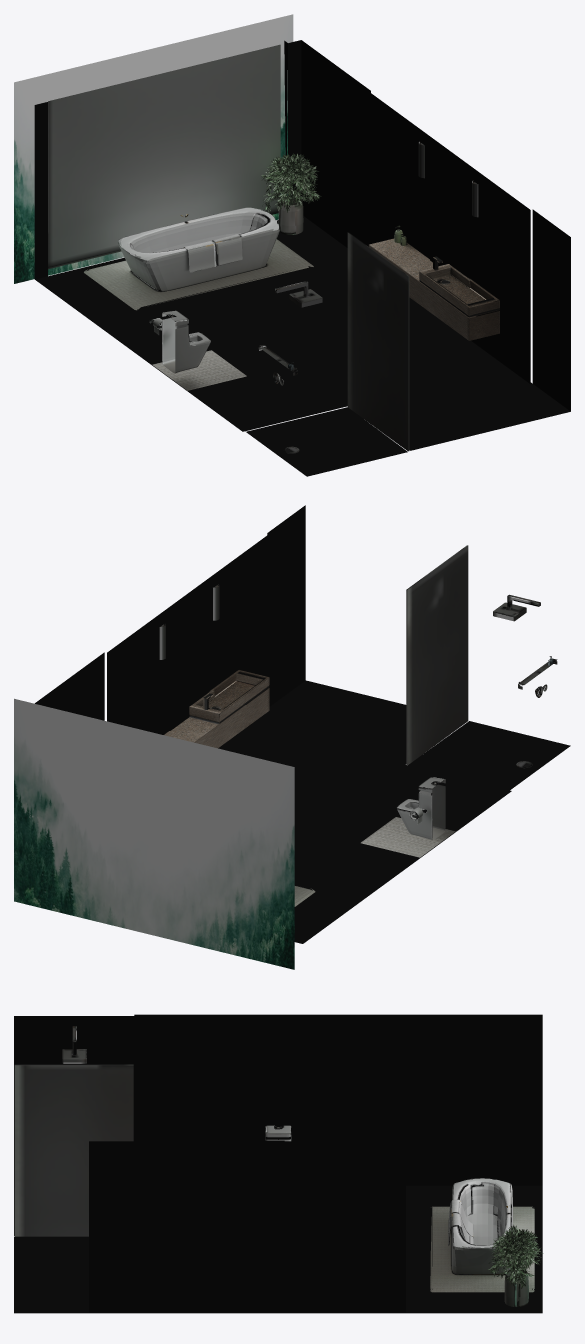
The model's file is int_bathroom_modern.fbx.
The picture shows the model from 3 angles, top to bottom: view 1: azimuth 30°, elevation 25°; view 2: azimuth 150°, elevation 25°; view 3: azimuth 270°, elevation 25°; orthographic projection. The views are drawn at different scales.
Visible parts, largest first — view 1: int_bathroom_modern; view 2: int_bathroom_modern; view 3: int_bathroom_modern.
Boxes of the visible parts, x1,y1,x2,y2 form: int_bathroom_modern: (14, 14, 570, 476); int_bathroom_modern: (14, 505, 570, 969); int_bathroom_modern: (14, 1014, 543, 1313).
Bounding box in the file's own units: 4.35 × 3 × 7.66.
Materials: 2 (2 with a texture image).
